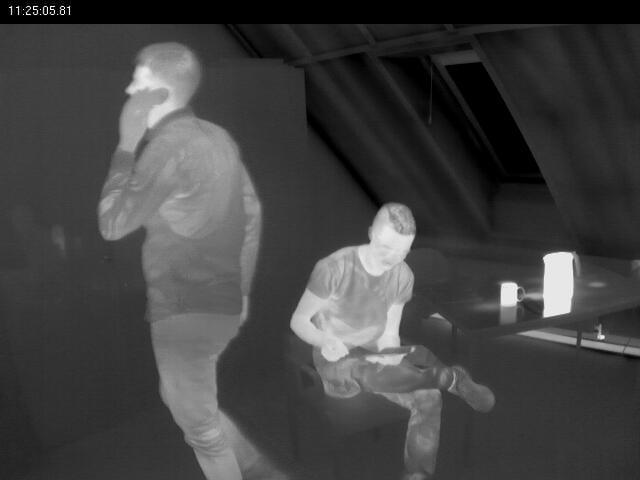person: (96, 41, 282, 480), (290, 193, 499, 480)
